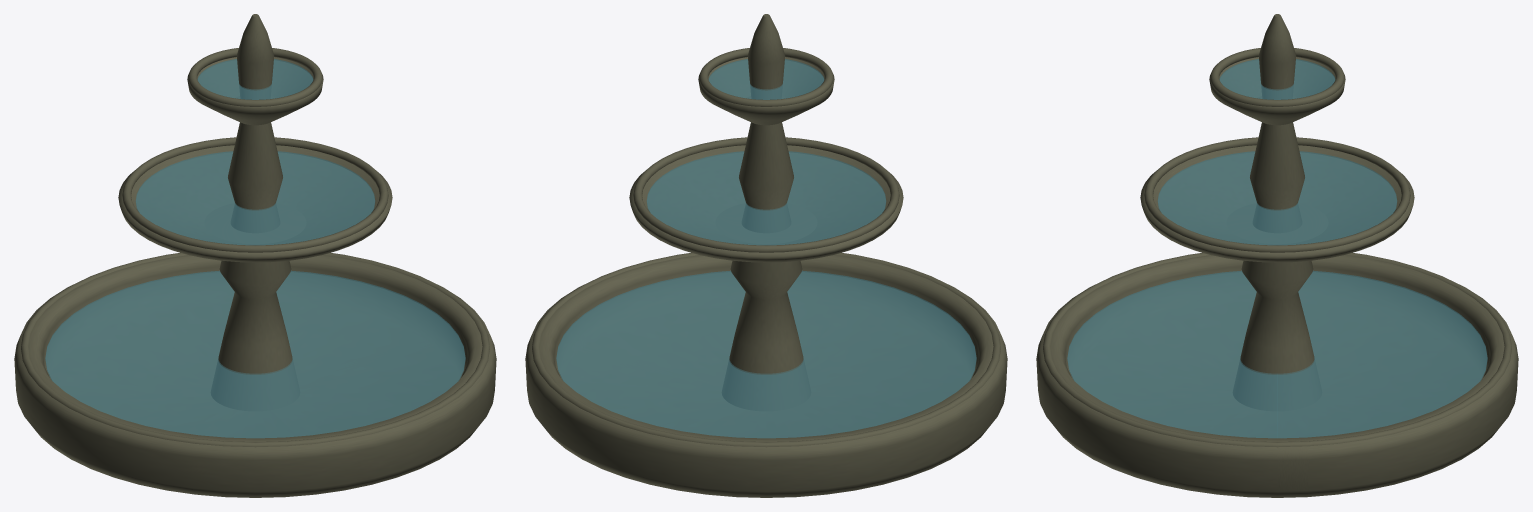
The model's file is TieredFountain.fbx.
3 renders of one model, left to right at view 1: azimuth 30°, elevation 25°; view 2: azimuth 150°, elevation 25°; view 3: azimuth 270°, elevation 25°, orthographic.
Parts seen in each view (by area): view 1: TieredFountain__Body, TieredFountain__Water3, TieredFountain__Water2, TieredFountain__Water1; view 2: TieredFountain__Body, TieredFountain__Water3, TieredFountain__Water2, TieredFountain__Water1; view 3: TieredFountain__Body, TieredFountain__Water3, TieredFountain__Water2, TieredFountain__Water1.
Boxes of the visible parts, x1=… form: TieredFountain__Body: x1=14, y1=14, x2=496, y2=497; TieredFountain__Water3: x1=45, y1=270, x2=465, y2=438; TieredFountain__Water2: x1=135, y1=151, x2=375, y2=245; TieredFountain__Water1: x1=197, y1=59, x2=313, y2=99; TieredFountain__Body: x1=525, y1=14, x2=1007, y2=497; TieredFountain__Water3: x1=556, y1=270, x2=976, y2=438; TieredFountain__Water2: x1=646, y1=151, x2=886, y2=245; TieredFountain__Water1: x1=708, y1=59, x2=824, y2=99; TieredFountain__Body: x1=1036, y1=14, x2=1518, y2=497; TieredFountain__Water3: x1=1067, y1=270, x2=1487, y2=438; TieredFountain__Water2: x1=1157, y1=151, x2=1397, y2=245; TieredFountain__Water1: x1=1219, y1=59, x2=1335, y2=99.
Size of the model in its own units: 168 by 151 by 168.
Materials: 2 (1 with a texture image).
